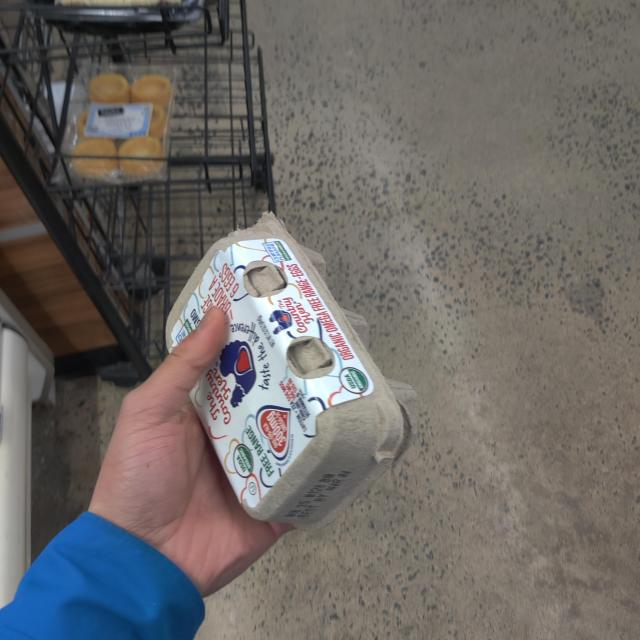Eggs: (162, 190, 422, 541)
